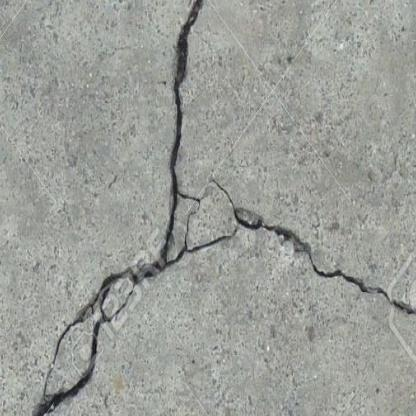Cracks: (23, 0, 233, 416), (205, 178, 416, 329)
